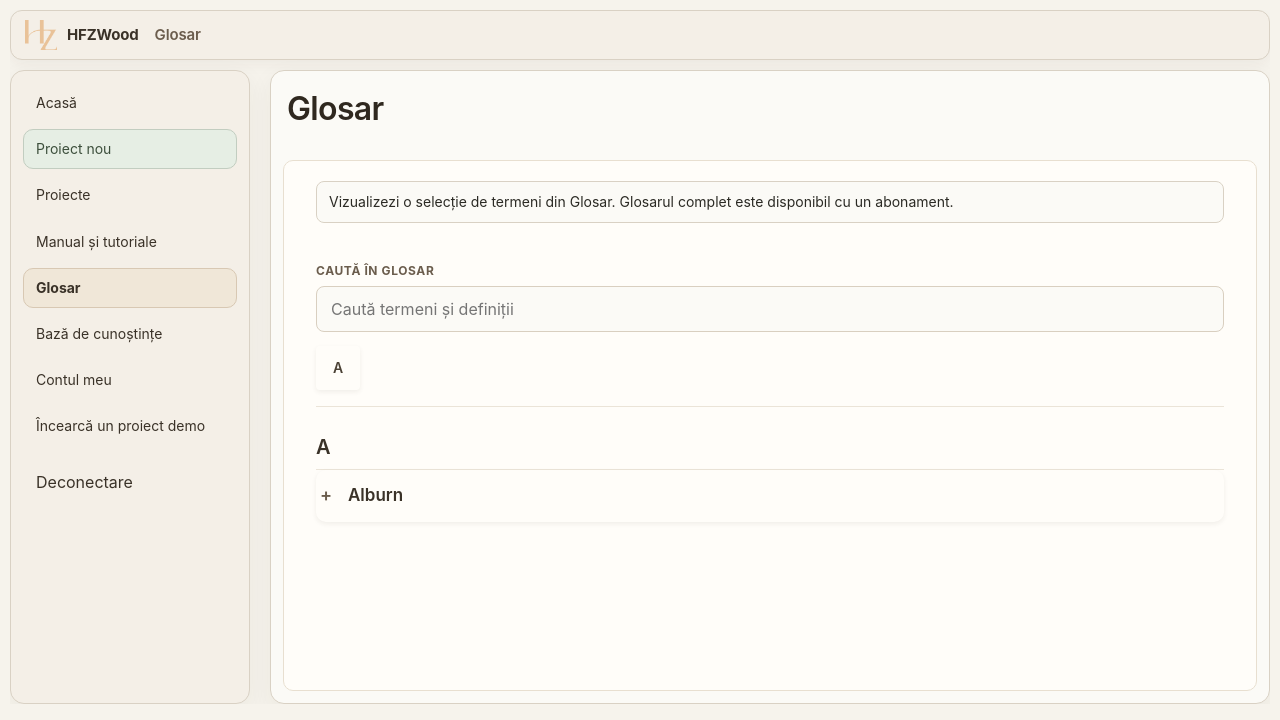
Test: GlossaryPage › does not expose unpublished or missing glossary targets as clickable relations
The image size is (1280, 720).
Click the button "+ Alburn" at {"x": 376, "y": 495}, box [316,470,1224,522]
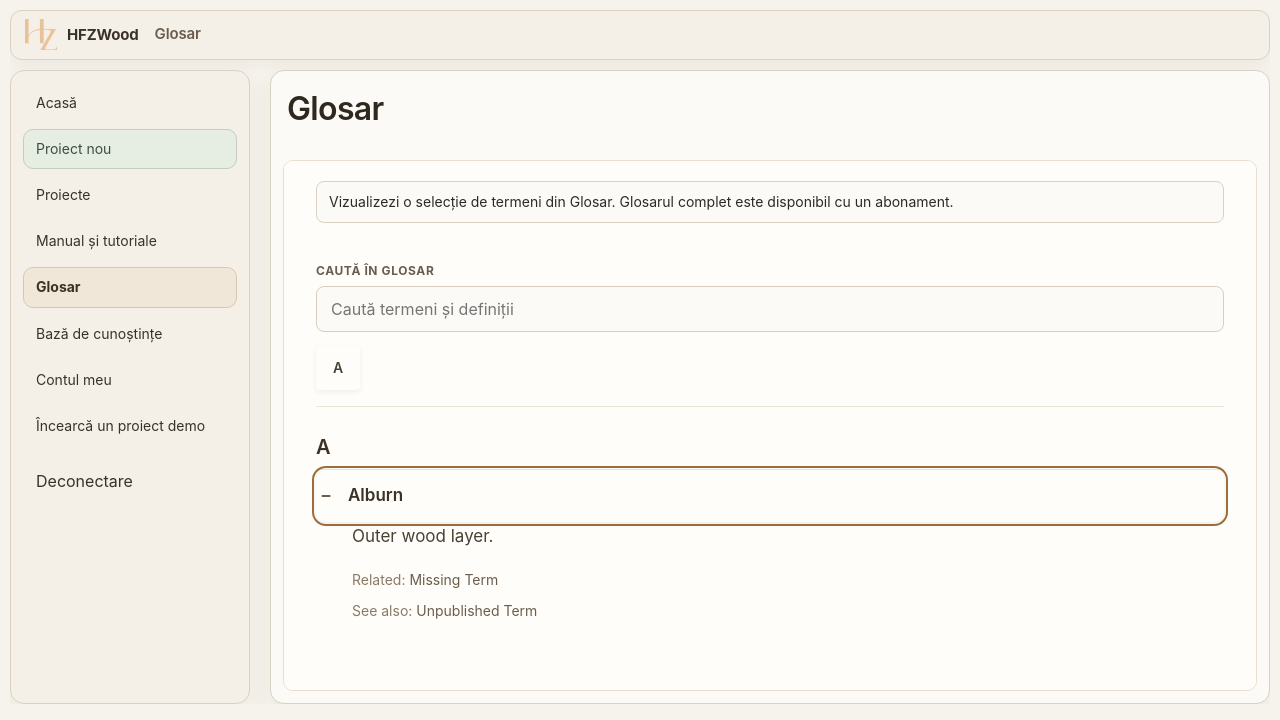
Check: the text "Missing Term" is shown, box [409,571,498,588]
Check: the text "Unpublished Term" is shown, box [416,602,537,619]
